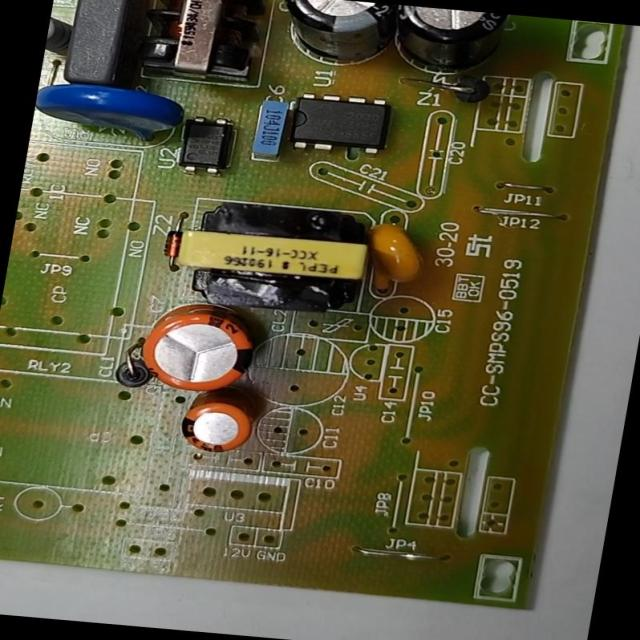Cap1: (125, 300, 272, 404)
Cap2: (167, 386, 266, 460)
Cap3: (259, 0, 406, 78)
Cap4: (370, 3, 524, 84)
MOSFET: (278, 87, 400, 163)
Mov: (30, 74, 199, 149)
Resistor: (43, 5, 80, 63)
Transformer: (162, 194, 384, 322), (124, 0, 270, 91)
